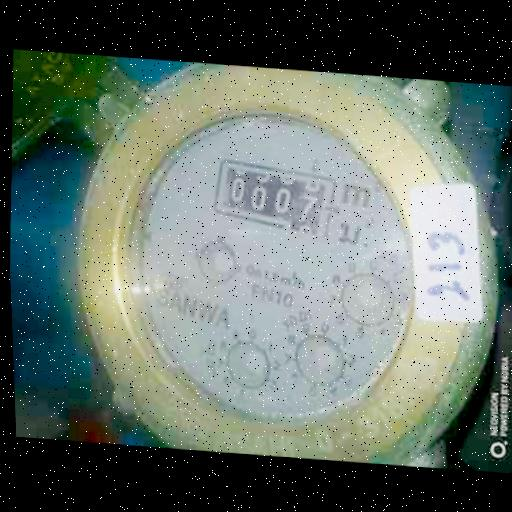0: (265, 174, 300, 222), (243, 171, 276, 215), (221, 167, 253, 210)
7: (288, 177, 327, 236)
border_water_meter_number: (208, 153, 341, 238)
